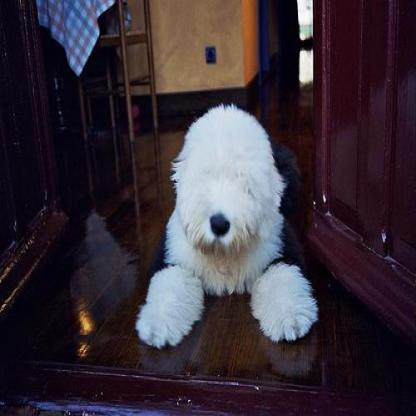Old_English_sheepdog: (136, 104, 318, 352)
